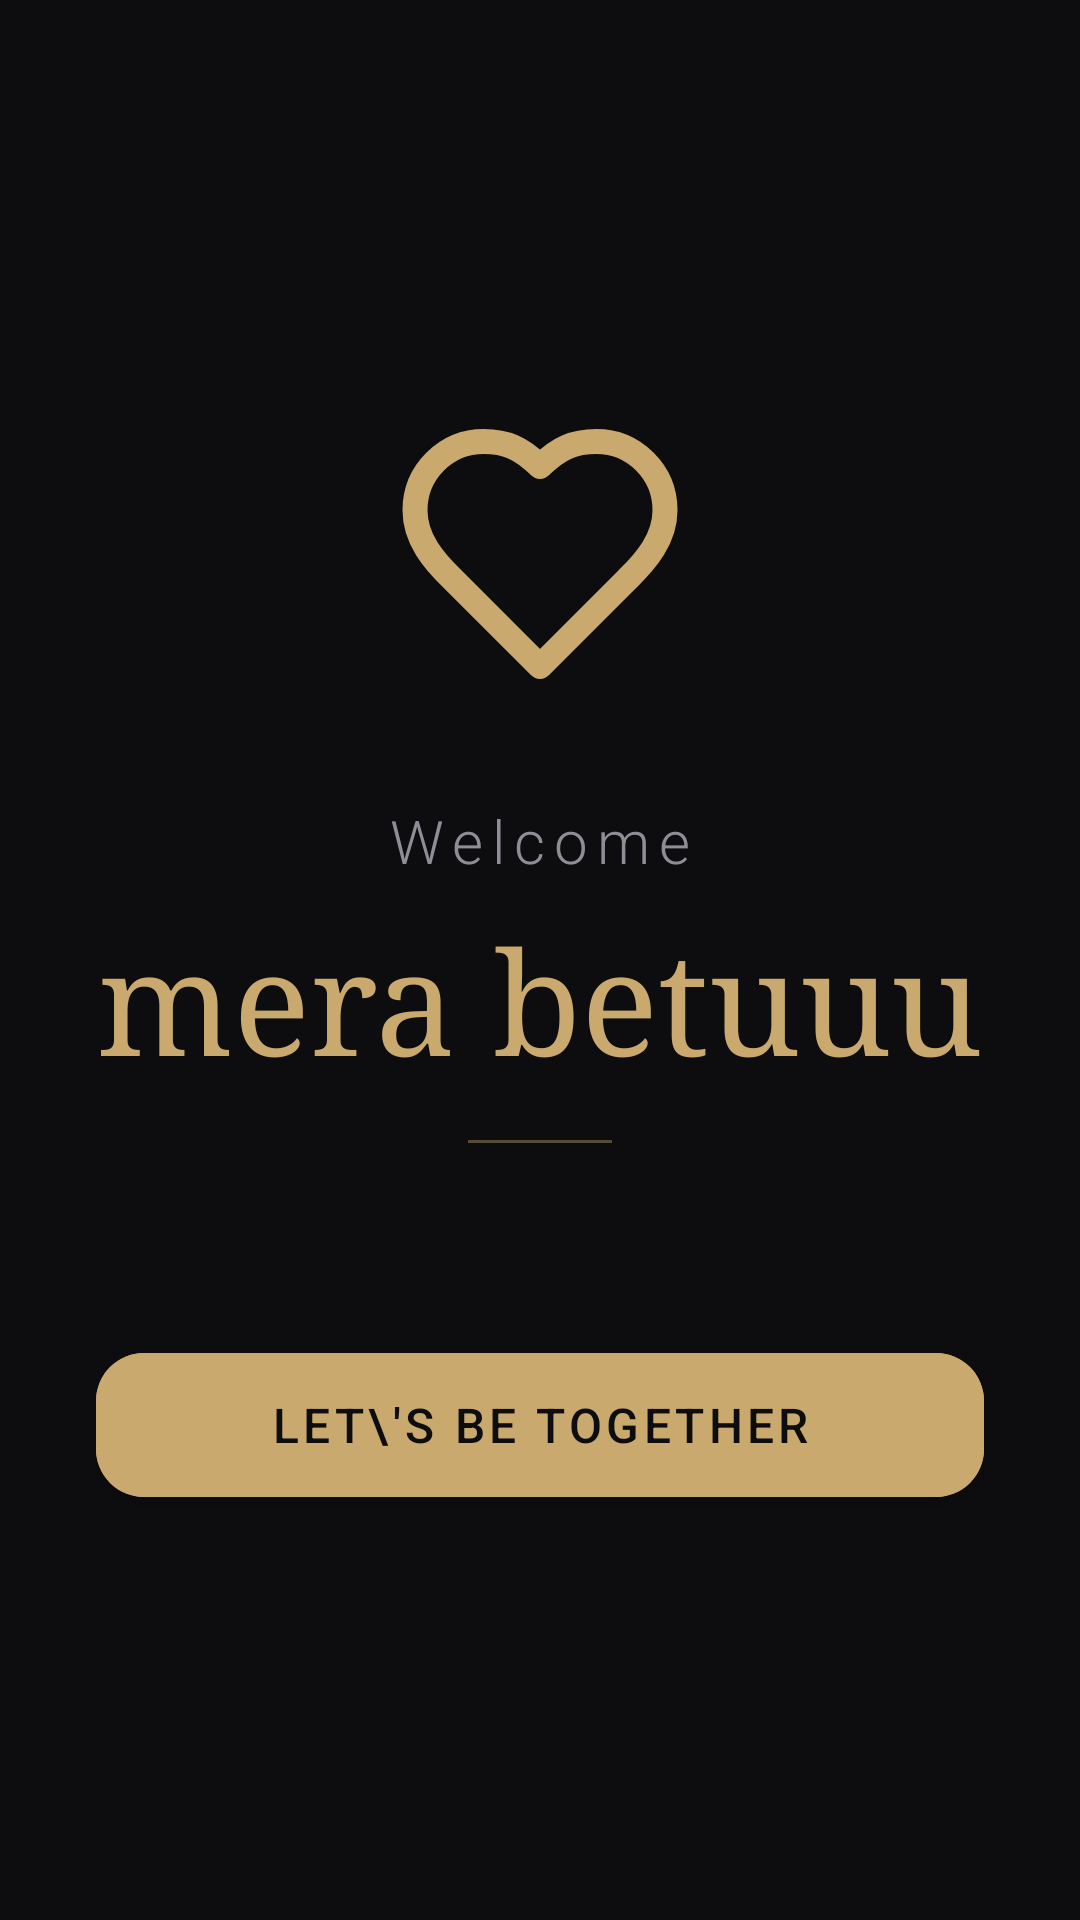

Where icons sit on this 1080x1920 app screen, as (left=x1, top=y1, right=x2, bottom=y2):
heart vlynxly: (left=402, top=429, right=678, bottom=679)
